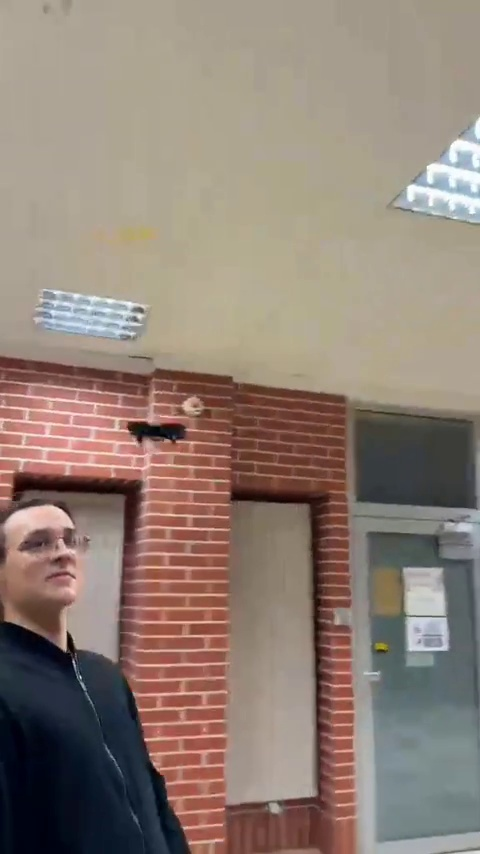drone: (120, 418, 191, 443)
no vest: (0, 503, 195, 854)
